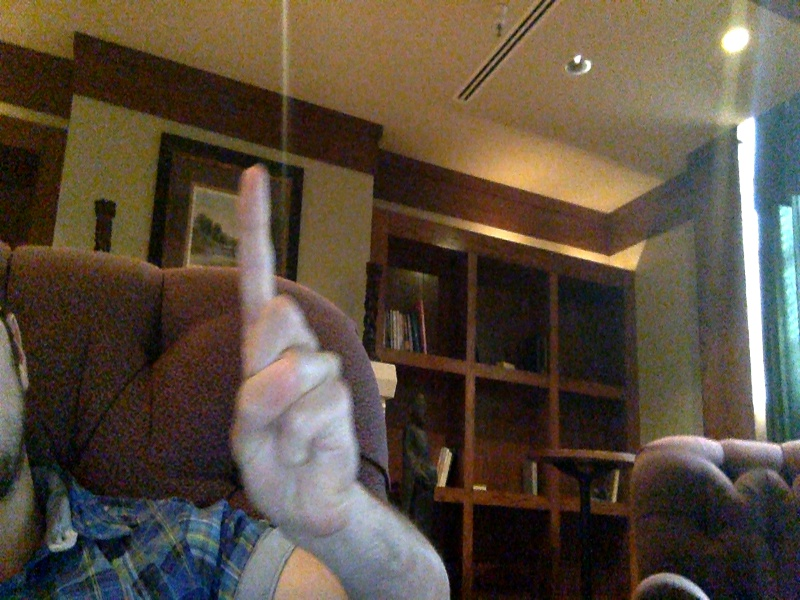1-hand: (232, 162, 359, 538)
